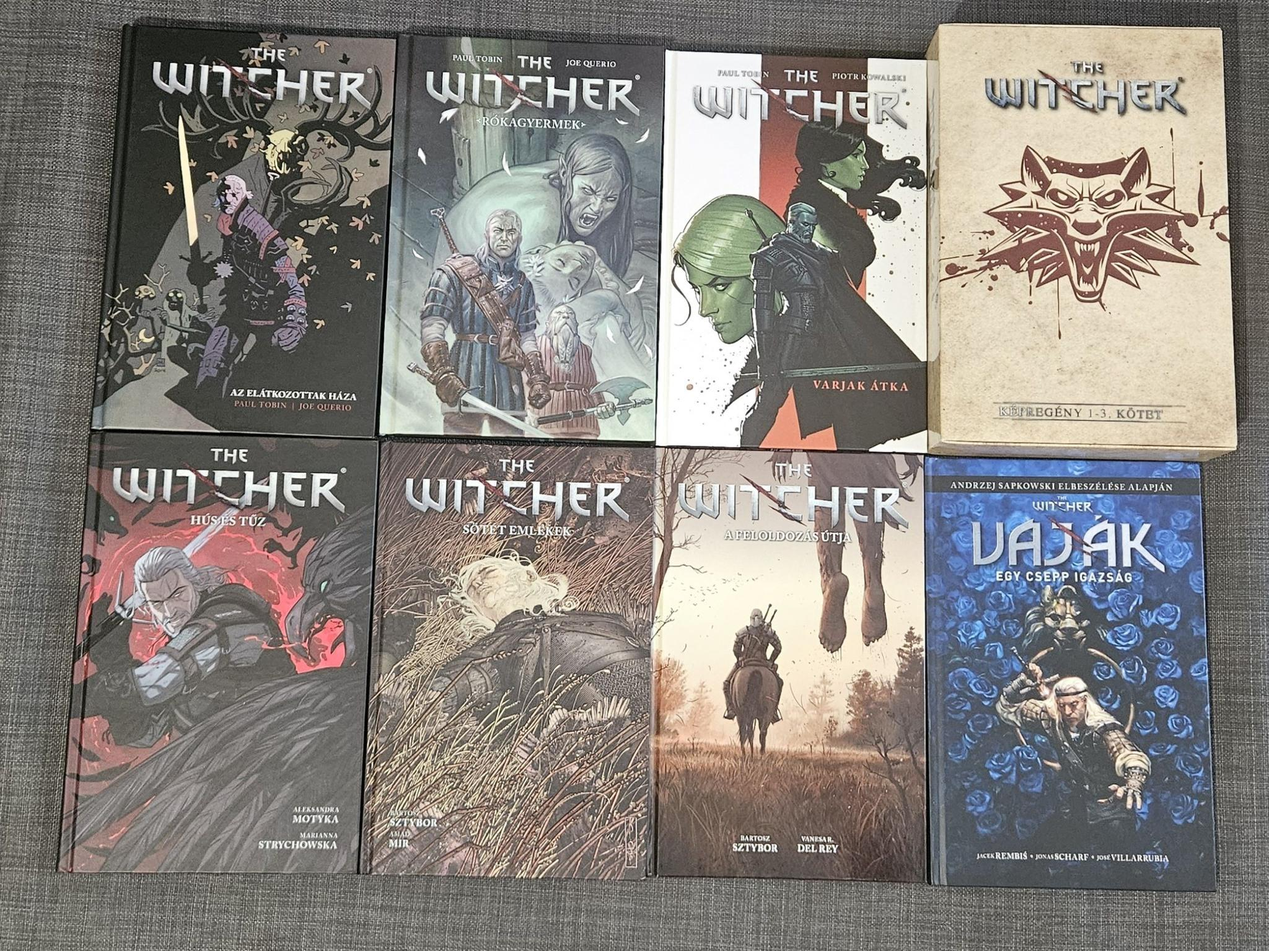comic: (60, 423, 384, 889), (927, 22, 1236, 461), (93, 18, 405, 449), (362, 438, 658, 879), (924, 453, 1216, 894), (380, 34, 670, 447), (652, 447, 927, 882), (657, 51, 934, 452)
